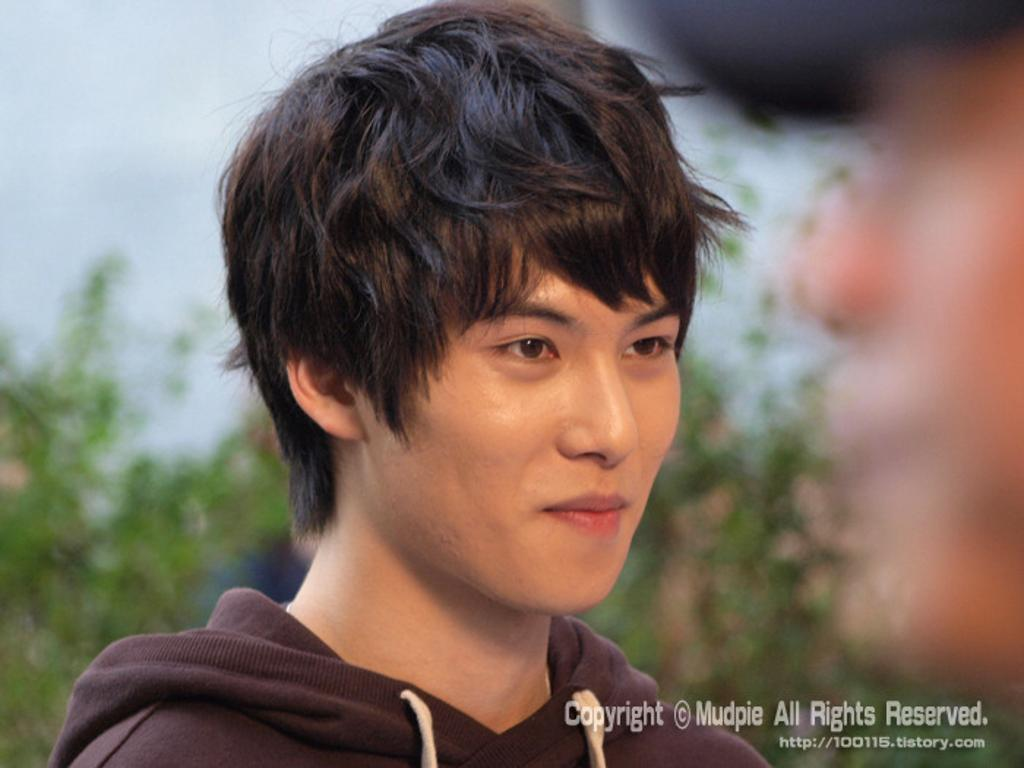face: (378, 158, 680, 606)
